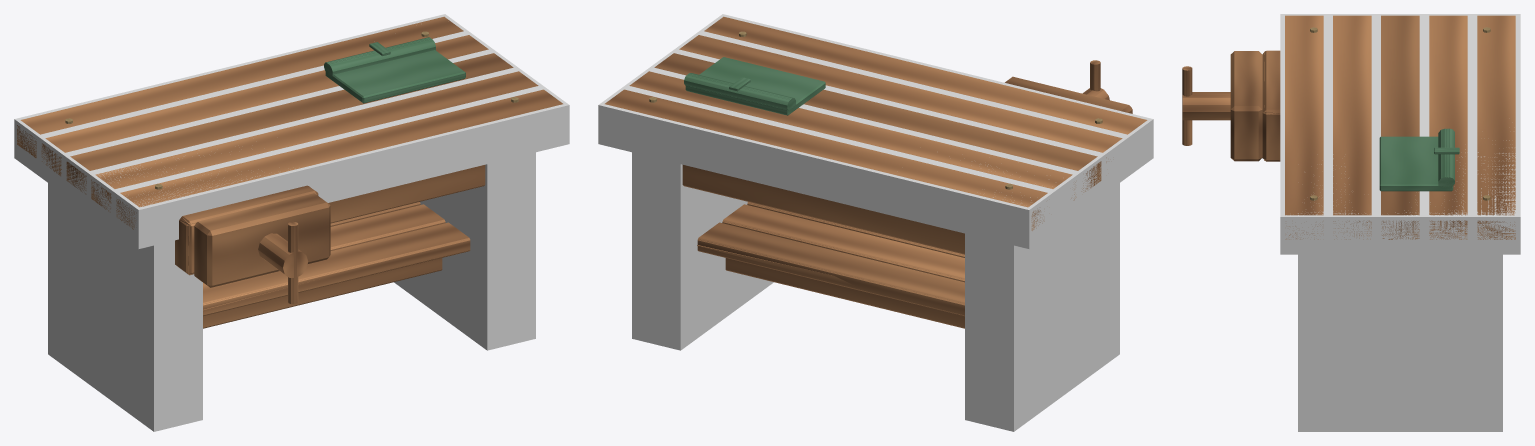
Rendered from town_shared_workbench_v01.fbx.
3 views of the same model, side by side, from view 1: azimuth 30°, elevation 25°; view 2: azimuth 150°, elevation 25°; view 3: azimuth 270°, elevation 25° (orthographic). The views are drawn at different scales.
Visible parts, largest first — view 1: LOD0_Static, COL_Worktop, COL_Trestle_-0.58, COL_Trestle_0.58, LOD0_MOVE_ViseJaw, LOD0_MOVE_ViseScrew, LOD0_MOVE_ViseHandle, LOD2_Static; view 2: LOD0_Static, COL_Worktop, COL_Trestle_-0.58, COL_Trestle_0.58, LOD0_MOVE_ViseJaw, LOD2_Static; view 3: LOD0_Static, COL_Trestle_0.58, COL_Worktop, LOD0_MOVE_ViseJaw, LOD0_MOVE_ViseScrew, LOD0_MOVE_ViseHandle.
Part boxes in pixels (x1,y1,x2,y2): LOD0_Static: (17, 16, 562, 328); COL_Worktop: (14, 14, 569, 248); COL_Trestle_-0.58: (48, 183, 202, 431); COL_Trestle_0.58: (394, 152, 535, 350); LOD0_MOVE_ViseJaw: (194, 193, 330, 287); LOD0_MOVE_ViseScrew: (258, 233, 308, 277); LOD0_MOVE_ViseHandle: (288, 221, 298, 304); LOD2_Static: (187, 190, 347, 311); LOD0_Static: (605, 16, 1147, 328); COL_Worktop: (598, 14, 1153, 248); COL_Trestle_-0.58: (965, 183, 1119, 431); COL_Trestle_0.58: (632, 152, 773, 350); LOD0_MOVE_ViseJaw: (1005, 76, 1132, 113); LOD2_Static: (697, 245, 858, 287); LOD0_Static: (1262, 15, 1515, 239); COL_Trestle_0.58: (1298, 254, 1502, 431); COL_Worktop: (1280, 14, 1520, 254); LOD0_MOVE_ViseJaw: (1230, 51, 1262, 161); LOD0_MOVE_ViseScrew: (1182, 92, 1230, 120); LOD0_MOVE_ViseHandle: (1182, 66, 1192, 145).
Size of the model in its own units: 1.5 by 0.845 by 1.06.
3 materials, 3 textured.
